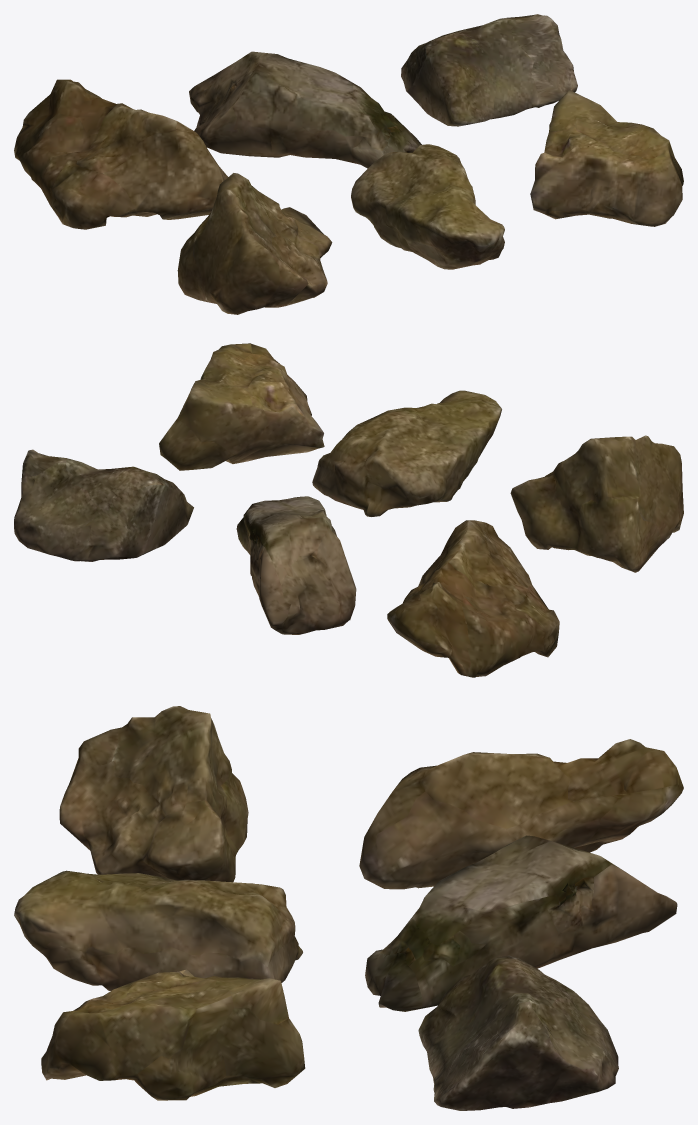
The model's file is rocks_a.glb.
The picture shows the model from 3 angles, top to bottom: view 1: azimuth 30°, elevation 25°; view 2: azimuth 150°, elevation 25°; view 3: azimuth 270°, elevation 25°; orthographic projection. The views are drawn at different scales.
Visible parts, largest first — view 1: rock_moss_set_01_rock01, rock_moss_set_01_rock03; view 2: rock_moss_set_01_rock01, rock_moss_set_01_rock03; view 3: rock_moss_set_01_rock01, rock_moss_set_01_rock03.
Boxes of the visible parts, x1=… form: rock_moss_set_01_rock01: x1=14, y1=51, x2=683, y2=314; rock_moss_set_01_rock03: x1=401, y1=14, x2=577, y2=126; rock_moss_set_01_rock01: x1=159, y1=343, x2=683, y2=677; rock_moss_set_01_rock03: x1=14, y1=449, x2=193, y2=561; rock_moss_set_01_rock01: x1=14, y1=706, x2=683, y2=1100; rock_moss_set_01_rock03: x1=418, y1=955, x2=618, y2=1110.
Bounding box in the file's own units: 8 × 1.76 × 6.94.
1 material, 1 textured.
